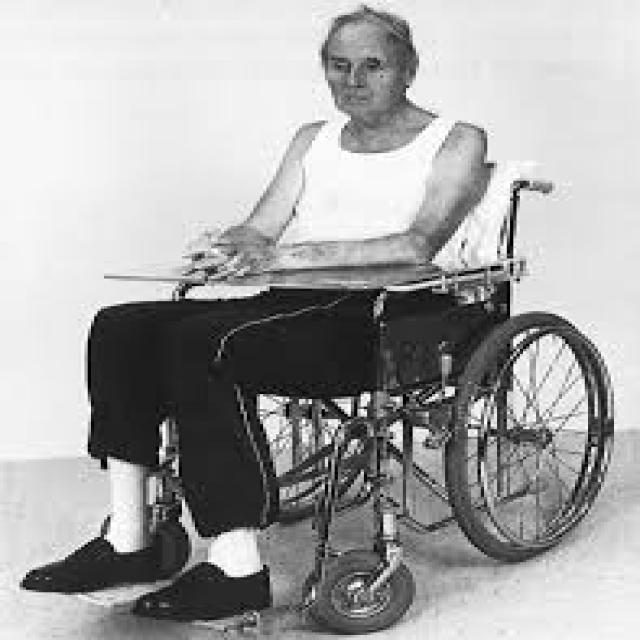wheelchairs: (94, 153, 627, 635)
